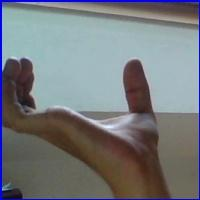B: (0, 43, 172, 179)
